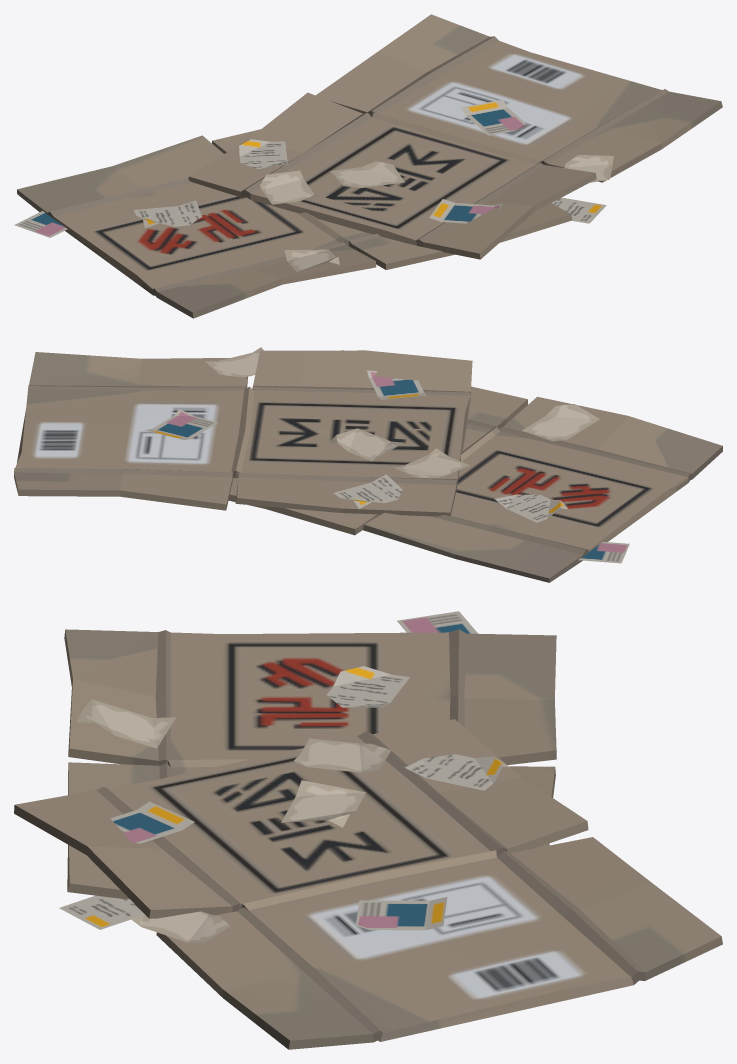
The model's file is worlds_SM_Prop_Junk_Cardboard_07.gltf.
3 renders of one model, top to bottom at view 1: azimuth 30°, elevation 25°; view 2: azimuth 150°, elevation 25°; view 3: azimuth 270°, elevation 25°, orthographic. The views are drawn at different scales.
Parts seen in each view (by area): view 1: SM_Prop_Junk_Cardboard_07; view 2: SM_Prop_Junk_Cardboard_07; view 3: SM_Prop_Junk_Cardboard_07.
Boxes of the visible parts, bbox=[...] form: SM_Prop_Junk_Cardboard_07: bbox=[14, 14, 722, 318]; SM_Prop_Junk_Cardboard_07: bbox=[14, 347, 722, 582]; SM_Prop_Junk_Cardboard_07: bbox=[14, 611, 722, 1049].
Size of the model in its own units: 3.78 by 0.1459 by 2.55.
Materials: 1 (1 with a texture image).
